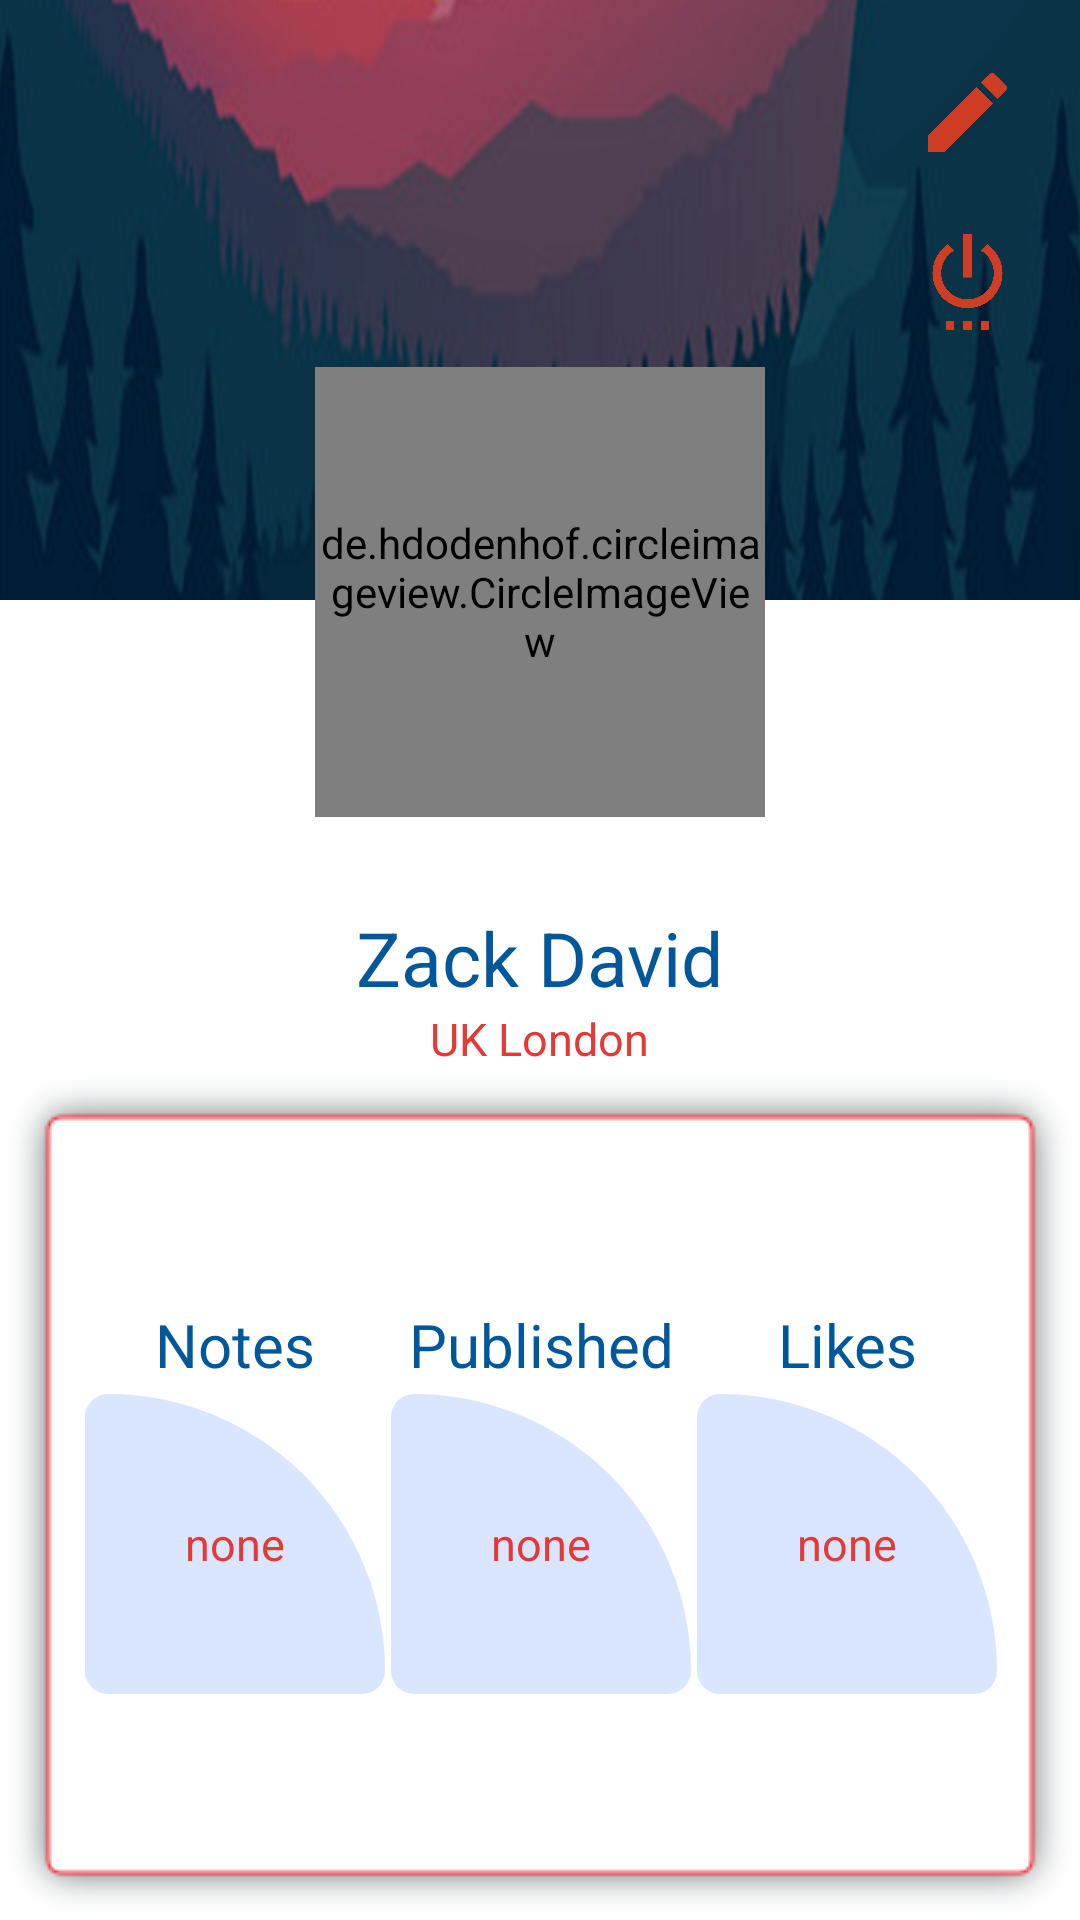

Where icons sit on this 1080w x 1920h app screen, as (x1, y1, x2, y2):
edit: (928, 73, 1007, 152)
signout: (915, 225, 1003, 330)
